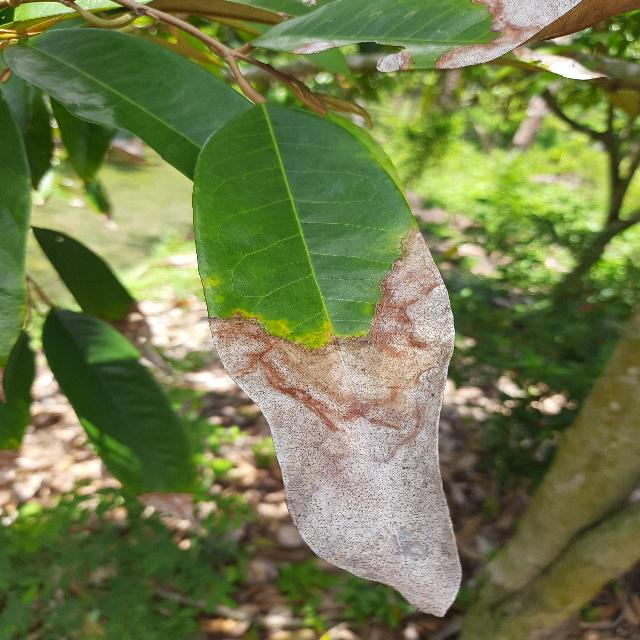Leaf Blight: (189, 97, 467, 633)
